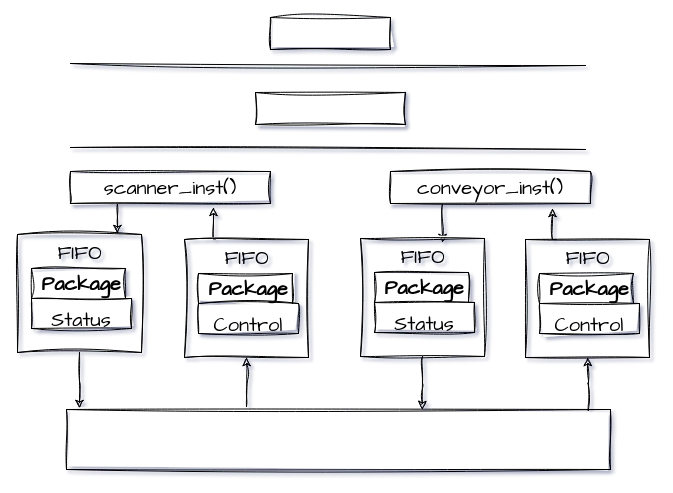
This 673x493 diagram has some shape labels left out. The shapes that lost their labels are listed below. From the top down, each one's centre as x and y in pixels, then its label:
the point at 330,33: sc_main()
the point at 330,108: top_inst()
the point at 338,439: Control_system_inst()
